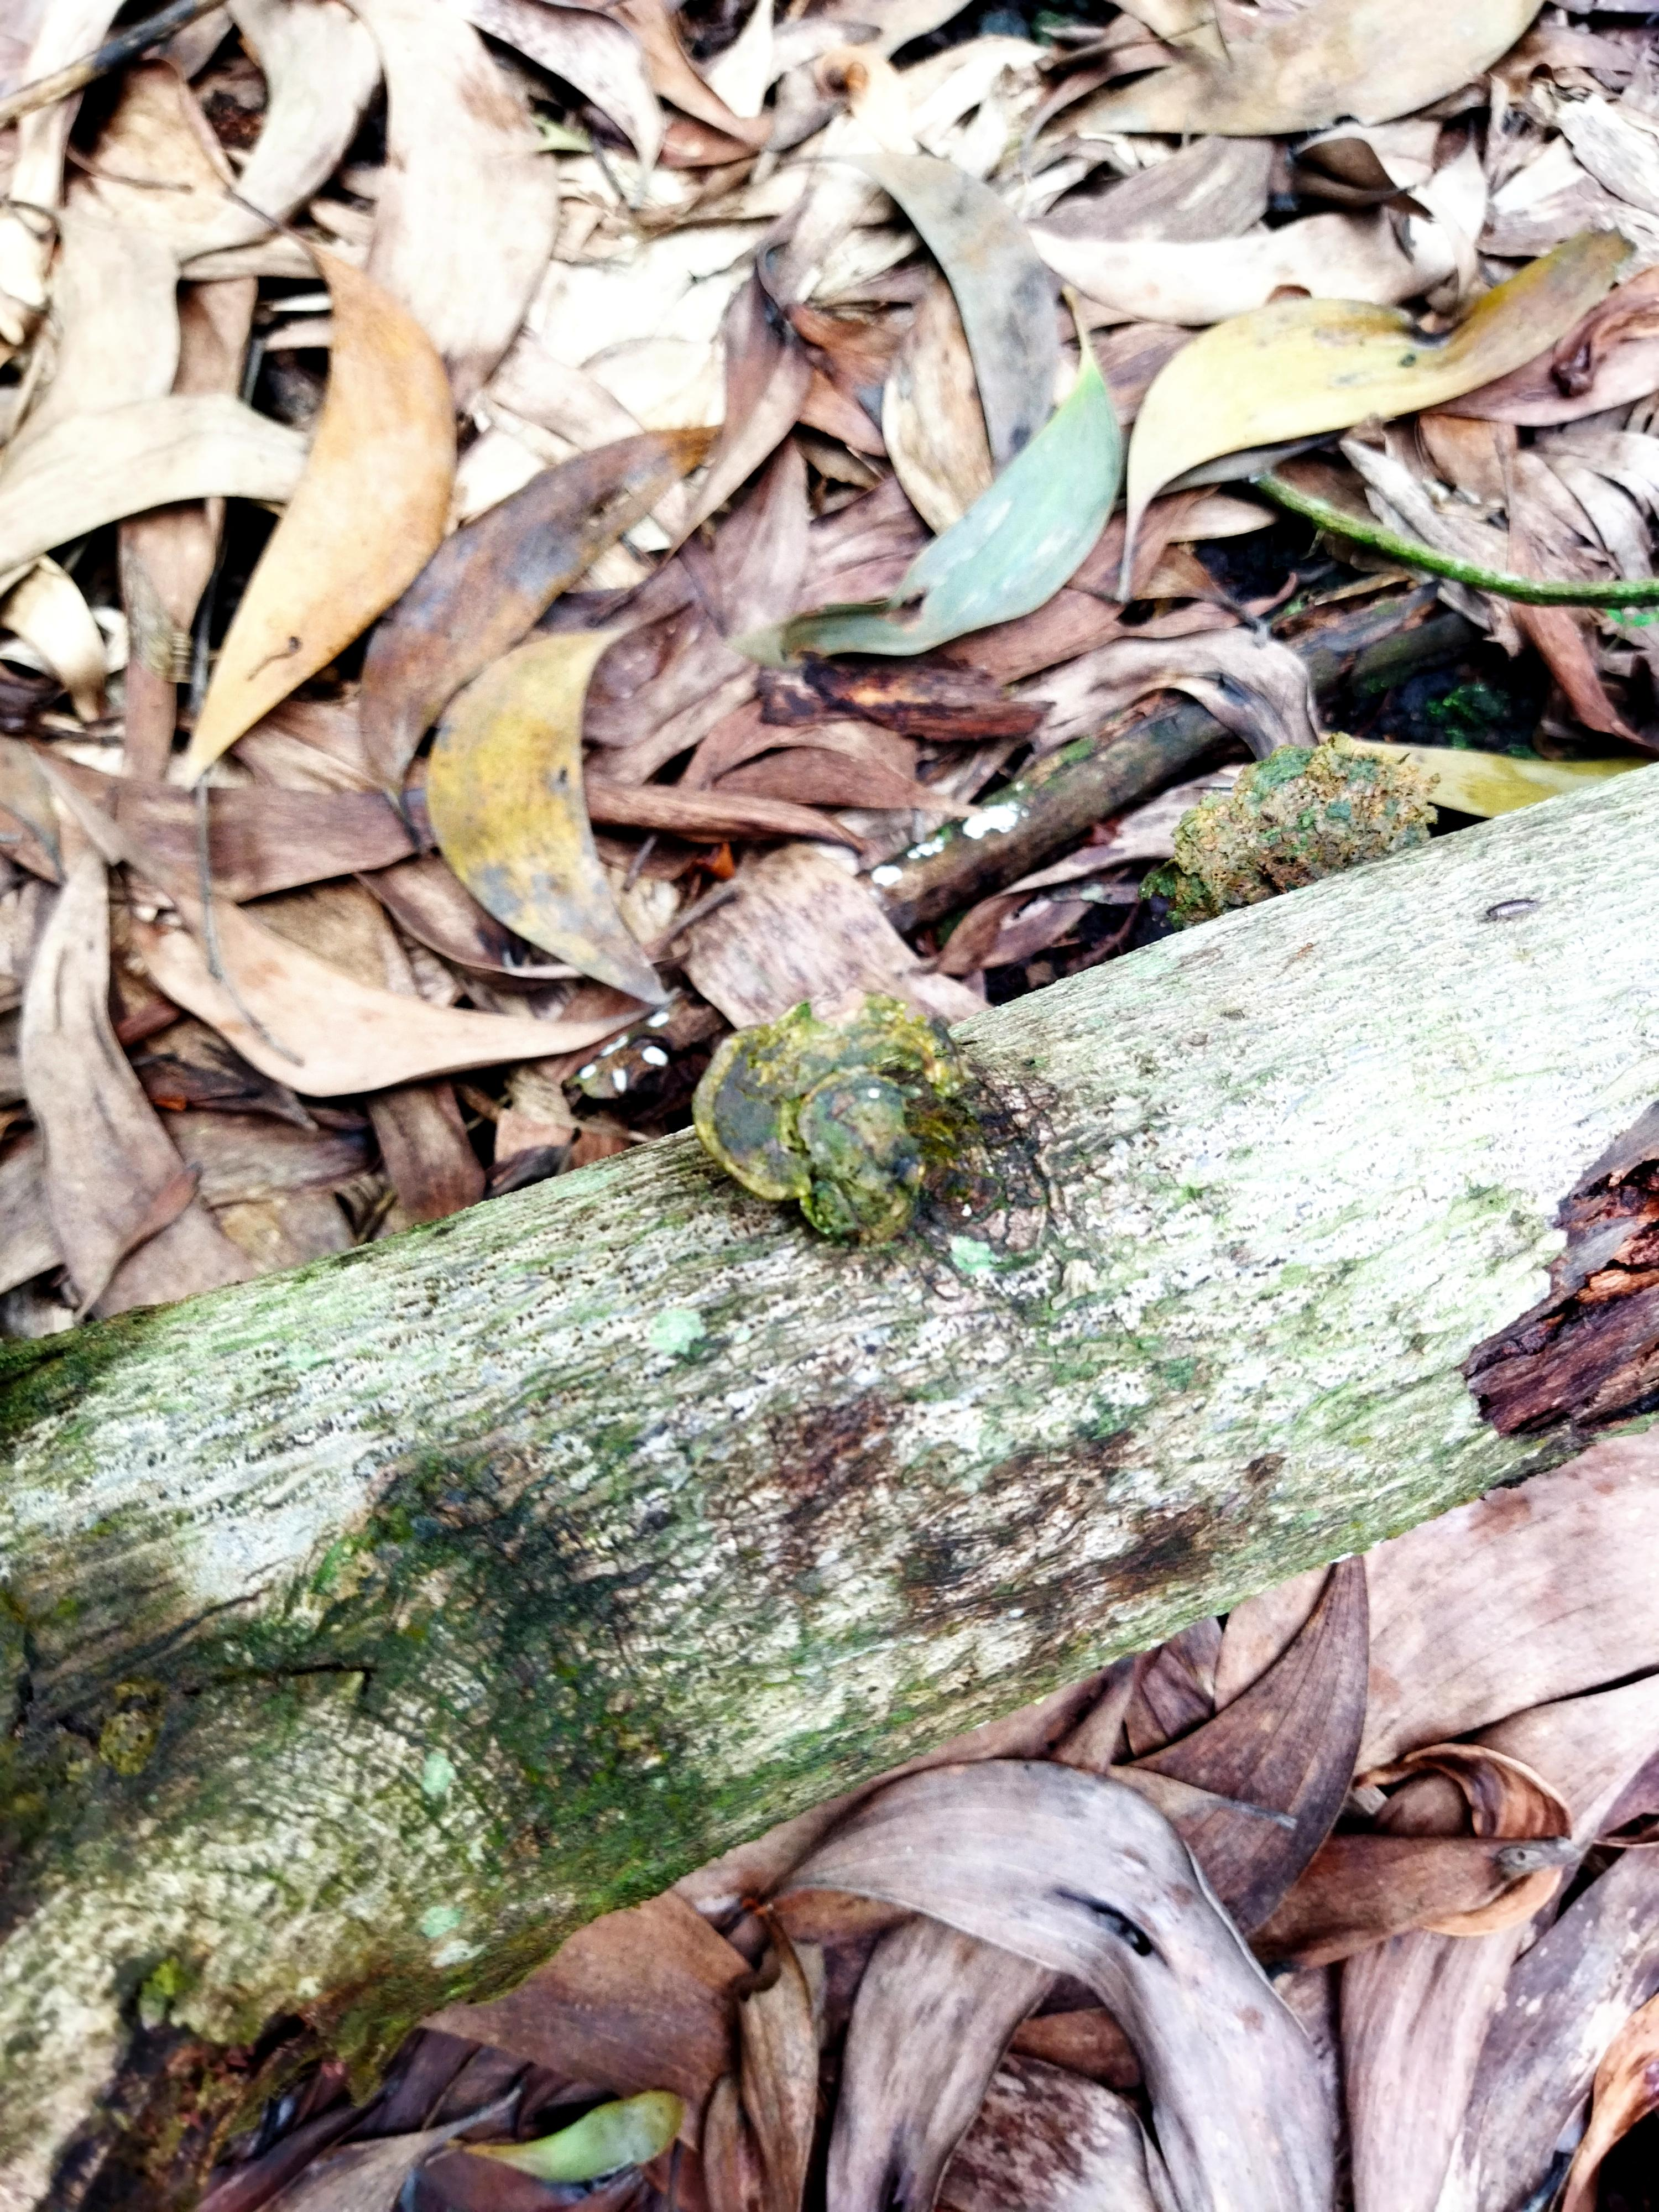Ganoderma - Fruit Body: (692, 986, 997, 1226)
